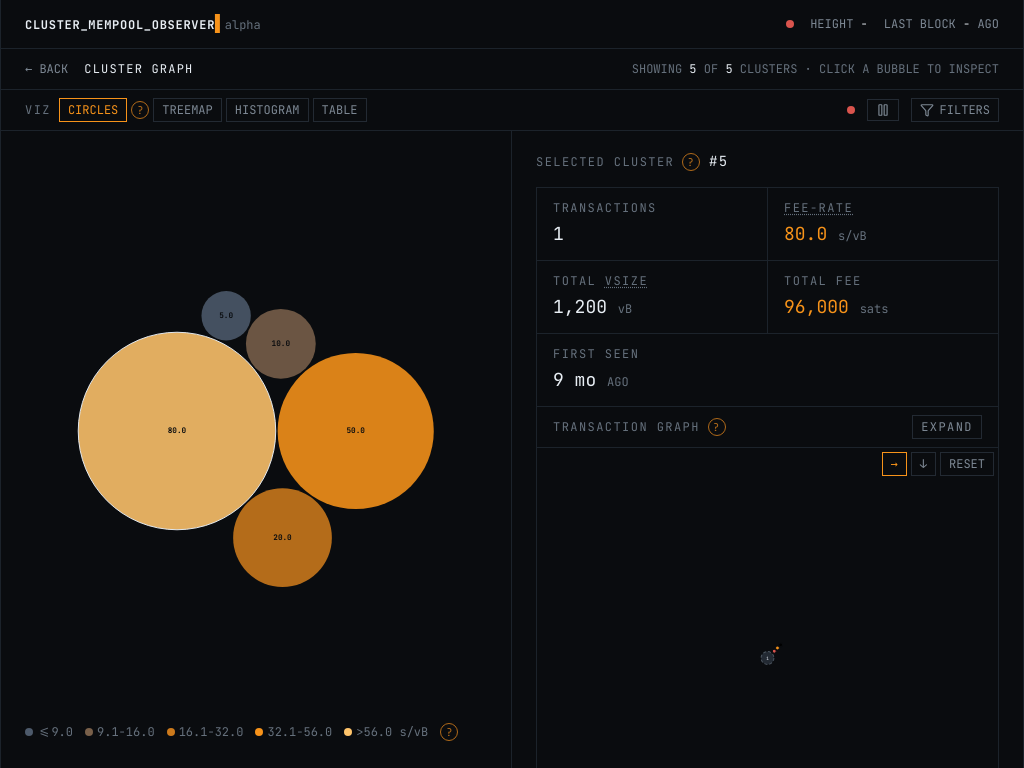
Test case: Clusters page: histogram swaps the right-hand panel for a distribution summary › shows the stats panel (not the selected-cluster panel) on histogram, and restores it after switching back
This screenshot has width=1024, height=768.
Expected: the text "CLUSTER GRAPH" is shown, [84,61,193,77]
Click the button "HISTOGRAM" at (267, 110), box [226,98,308,122]
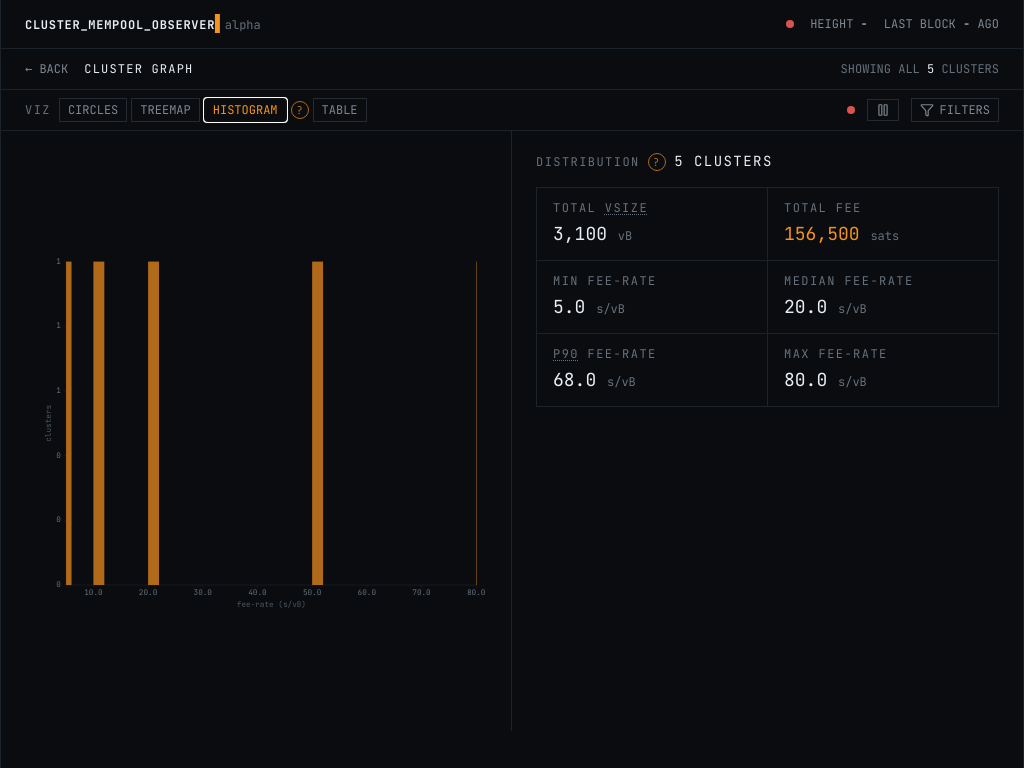
Expected: the text "TXID" is gone
Expected: the text "5 CLUSTERS" is shown, [674,152,773,170]
Expected: the text "MEDIAN FEE-RATE" is shown, [784,273,914,289]
Click the button "CIRCLES" at (93, 110), box [59,98,127,122]
(page scrolled)
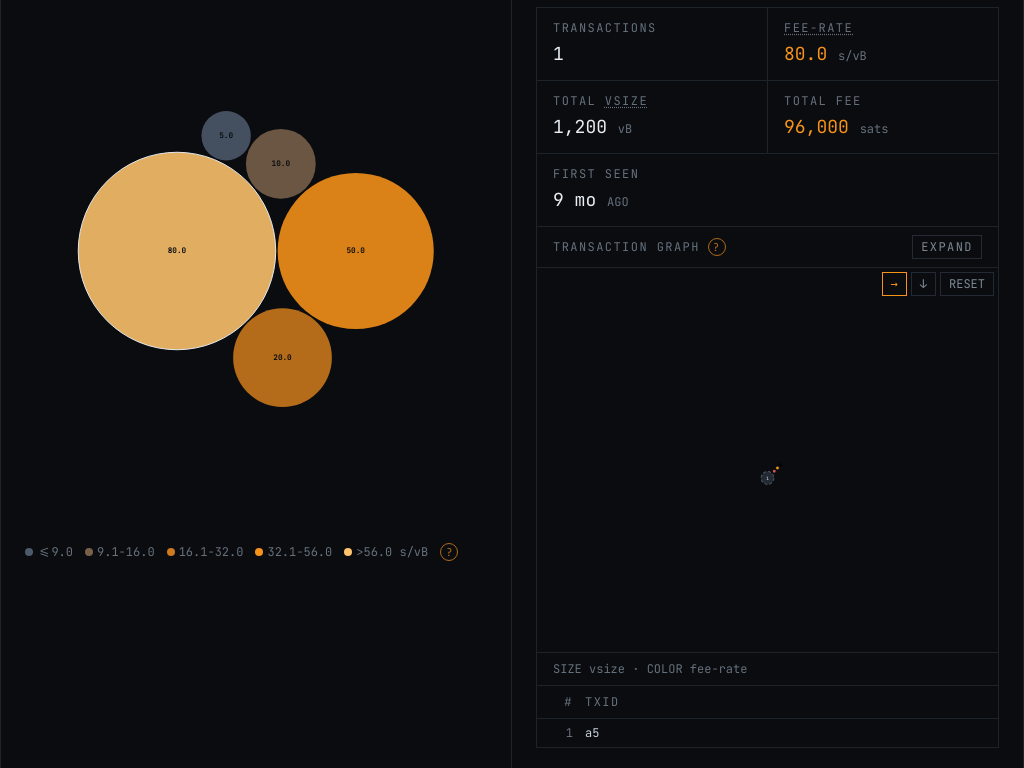
Expected: the text "5 CLUSTERS" is not shown
Expected: the text "TXID" is shown, [585,694,620,710]
